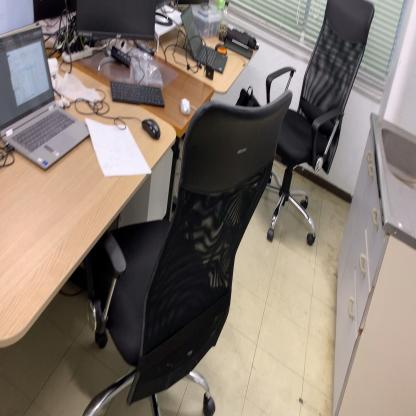chair: (82, 89, 294, 416), (261, 0, 376, 250)
